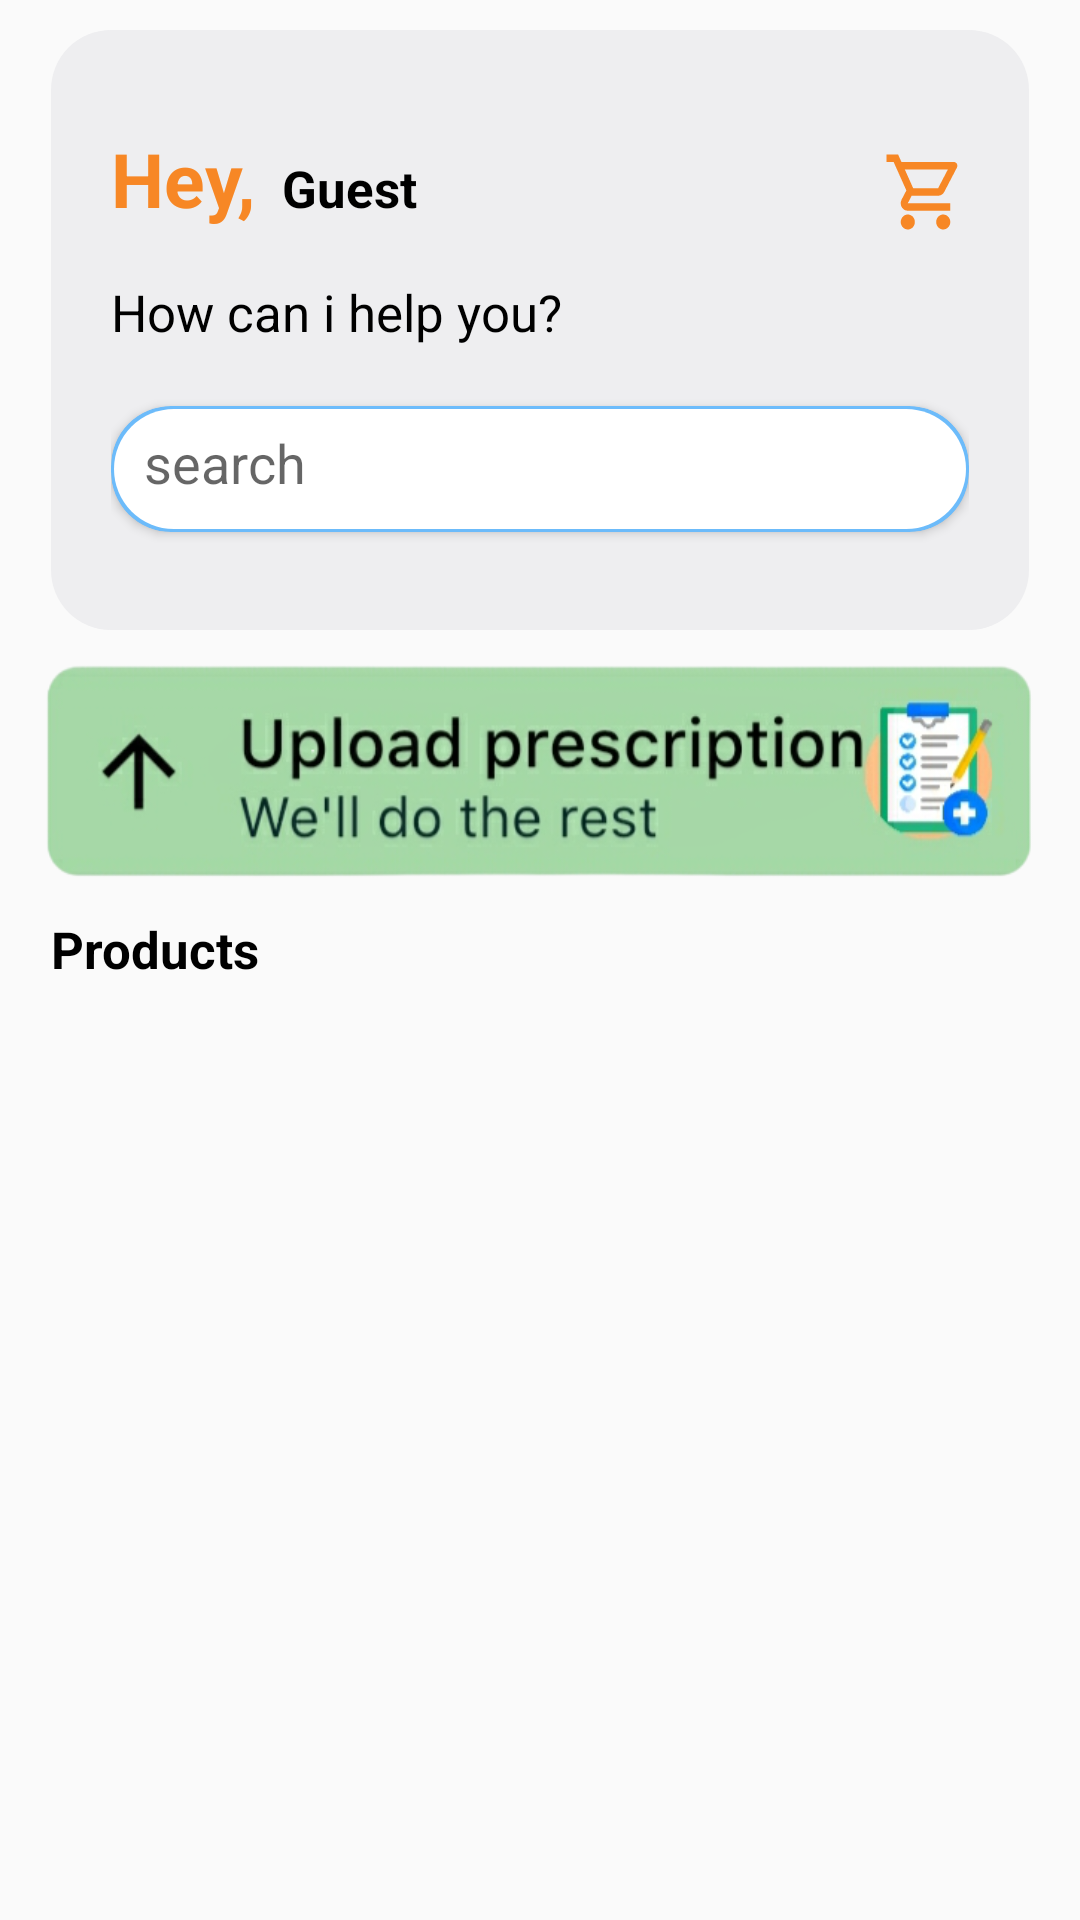

Screen size 1080x1920. Icon name, then its center in pixels as point (x, y):
shopping cart: point (922, 192)
